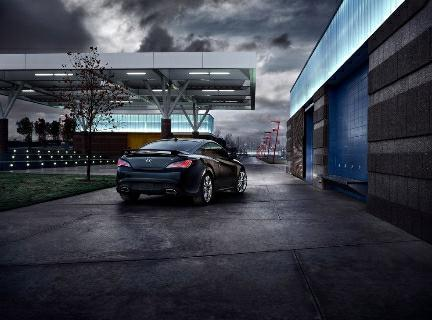现代-劳恩斯-酷派: (108, 137, 254, 210)
